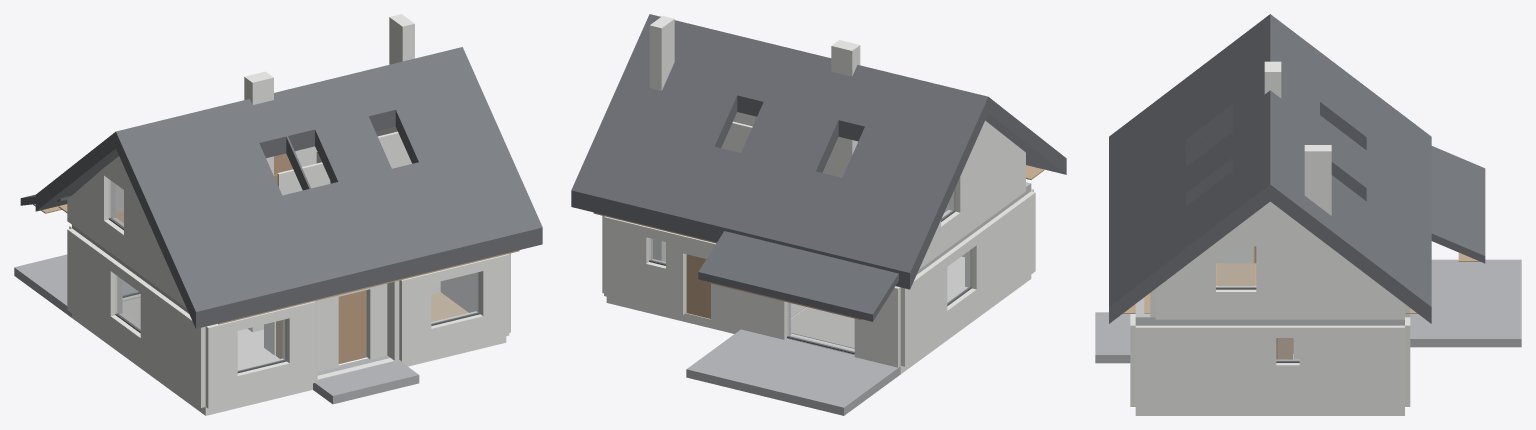
File: amor_woe1092_unreal.fbx
3 views of the same model, side by side, from view 1: azimuth 30°, elevation 25°; view 2: azimuth 150°, elevation 25°; view 3: azimuth 270°, elevation 25° (orthographic). The views are drawn at different scales.
Parts seen in each view (by area): view 1: Dach_rp_main_south, SM_WallMerged_parter_exterior_mat_wall_plaster, SM_WallMerged_poddasze_gable_wall_mat_wall_plaster, SM_WallMerged_parter_exterior_mat_insulation, Taras_podium_1_9_entrance, Cokol_Budynku, Dach_rp_main_north, Taras_terrace_1_10_north, SkrzydloDrzwi_door_dz1_entrance, SM_WallMerged_poddasze_interior_partition_mat_wall_plaster, win_ok4_pokoj18_s_glass, win_ok4_kuchnia_s_glass (+9 smaller); view 2: Dach_rp_main_north, SM_WallMerged_parter_exterior_mat_wall_plaster, Taras_terrace_1_10_north, Dach_rp_terrace_canopy_d3, SM_WallMerged_poddasze_gable_wall_mat_wall_plaster, Posadzka_parter_1_4_salon_kuchnia, win_ob1_salon_n_glass, SM_WallMerged_parter_exterior_mat_insulation, Dach_rp_main_south, Komin_chimney_schiedel_kotlownia, Cokol_Budynku, Komin_chimney_schiedel_salon (+5 smaller); view 3: Dach_rp_main_south, Dach_rp_main_north, SM_WallMerged_parter_exterior_mat_wall_plaster, SM_WallMerged_poddasze_gable_wall_mat_wall_plaster, Taras_terrace_1_10_north, Dach_rp_terrace_canopy_d3, Strop_slab_parter_p2, Cokol_Budynku, SM_WallMerged_parter_exterior_mat_insulation, Taras_podium_1_9_entrance, Komin_chimney_schiedel_kotlownia, win_ok3_attic_e_glass (+4 smaller).
Boxes of the visible parts, box(x1,y1,x2,y2) form: Dach_rp_main_south: box(116, 47, 542, 328); SM_WallMerged_parter_exterior_mat_wall_plaster: box(67, 225, 510, 408); SM_WallMerged_poddasze_gable_wall_mat_wall_plaster: box(67, 128, 389, 308); SM_WallMerged_parter_exterior_mat_insulation: box(68, 226, 510, 408); Taras_podium_1_9_entrance: box(313, 355, 419, 404); Cokol_Budynku: box(72, 294, 506, 415); Dach_rp_main_north: box(35, 131, 118, 211); Taras_terrace_1_10_north: box(14, 254, 137, 317); SkrzydloDrzwi_door_dz1_entrance: box(338, 290, 366, 363); SM_WallMerged_poddasze_interior_partition_mat_wall_plaster: box(277, 131, 411, 195); win_ok4_pokoj18_s_glass: box(431, 272, 478, 323); win_ok4_kuchnia_s_glass: box(238, 319, 284, 370); Dach_rp_main_north: box(571, 14, 988, 289); SM_WallMerged_parter_exterior_mat_wall_plaster: box(602, 188, 1035, 367); Taras_terrace_1_10_north: box(686, 329, 900, 415); Dach_rp_terrace_canopy_d3: box(698, 231, 898, 321); SM_WallMerged_poddasze_gable_wall_mat_wall_plaster: box(919, 120, 1025, 269); Posadzka_parter_1_4_salon_kuchnia: box(791, 256, 964, 348); win_ob1_salon_n_glass: box(789, 303, 854, 351); SM_WallMerged_parter_exterior_mat_insulation: box(602, 189, 1034, 367); Dach_rp_main_south: box(985, 97, 1066, 174); Komin_chimney_schiedel_kotlownia: box(649, 16, 674, 261); Cokol_Budynku: box(606, 275, 1031, 373); Komin_chimney_schiedel_salon: box(831, 40, 860, 177); Dach_rp_main_south: box(1109, 14, 1270, 323); Dach_rp_main_north: box(1270, 14, 1431, 323); SM_WallMerged_parter_exterior_mat_wall_plaster: box(1130, 314, 1410, 409); SM_WallMerged_poddasze_gable_wall_mat_wall_plaster: box(1155, 201, 1404, 319); Taras_terrace_1_10_north: box(1410, 259, 1521, 347); Dach_rp_terrace_canopy_d3: box(1431, 146, 1485, 263); Strop_slab_parter_p2: box(1135, 262, 1404, 325); Cokol_Budynku: box(1135, 409, 1404, 415); SM_WallMerged_parter_exterior_mat_insulation: box(1130, 314, 1409, 406); Taras_podium_1_9_entrance: box(1095, 312, 1130, 363); Komin_chimney_schiedel_kotlownia: box(1304, 145, 1331, 215); win_ok3_attic_e_glass: box(1217, 246, 1254, 287).
Size of the model in its own units: 1204 by 1272 by 860.
